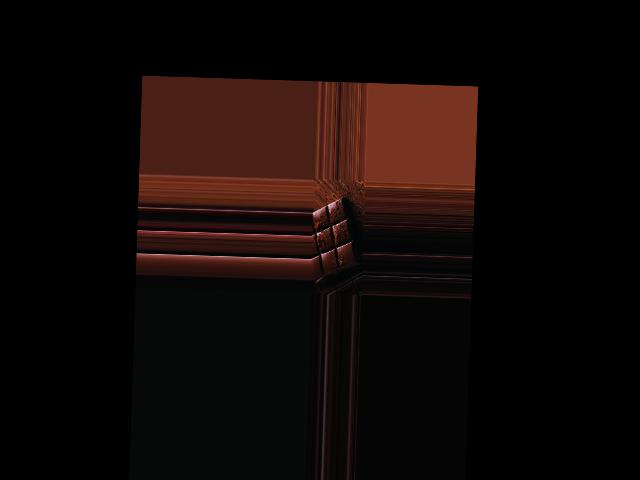chocolate: (311, 192, 360, 282)
